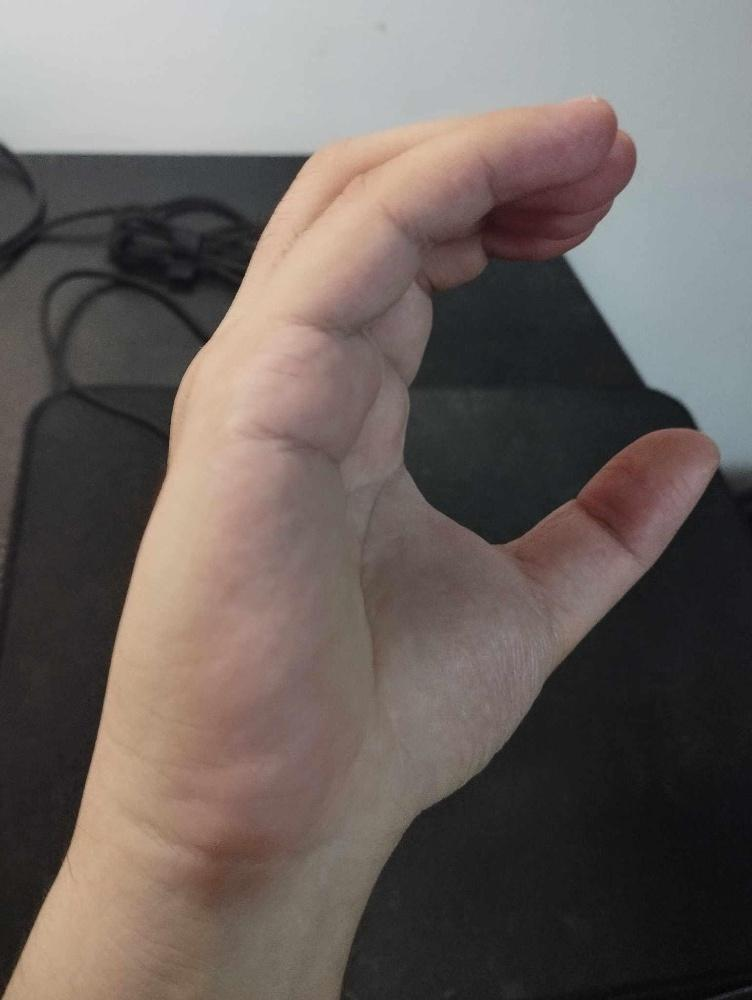c: (100, 93, 723, 865)
